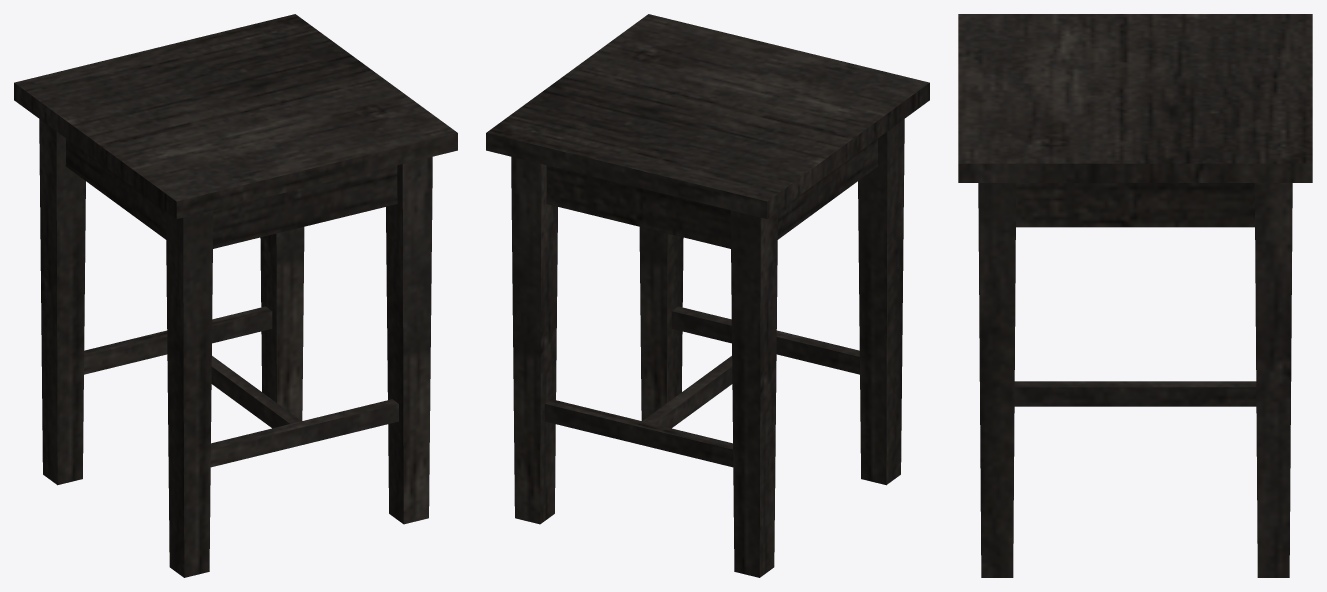
The model's file is chair_mp_1.fbx.
The picture shows the model from 3 angles, left to right: view 1: azimuth 30°, elevation 25°; view 2: azimuth 150°, elevation 25°; view 3: azimuth 270°, elevation 25°; orthographic projection. The views are drawn at different scales.
Parts seen in each view (by area): view 1: chair_mp_1; view 2: chair_mp_1; view 3: chair_mp_1.
Boxes of the visible parts, left/top/right/bottom form: chair_mp_1: left=14, top=14, right=457, bottom=577; chair_mp_1: left=486, top=14, right=929, bottom=577; chair_mp_1: left=958, top=14, right=1312, bottom=577.
Bounding box in the file's own units: 0.5 × 0.5 × 0.66.
